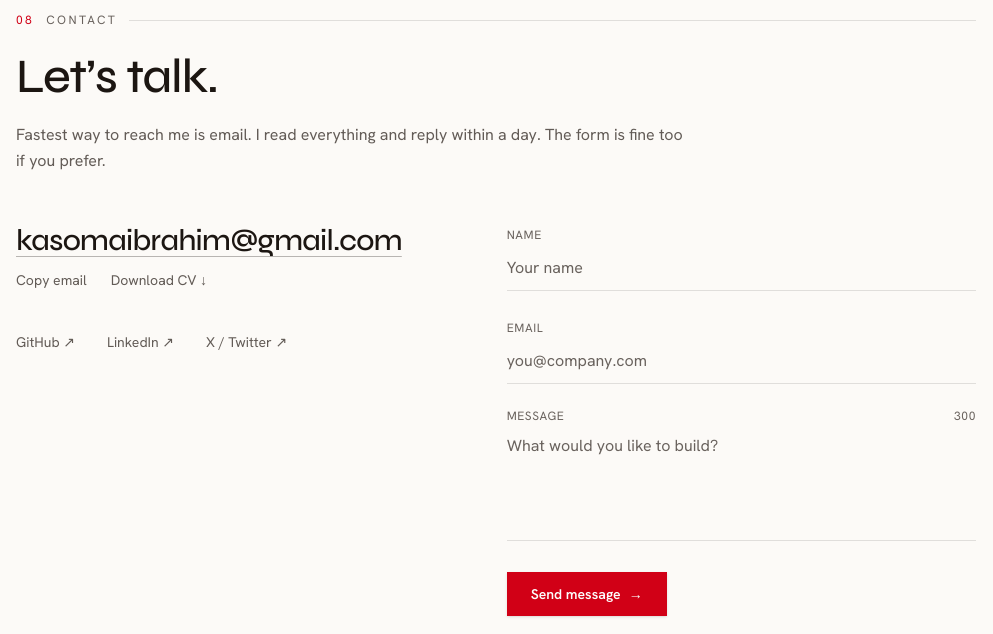
Test: Contact form › shows a server error on failure
In the field with placeholder "Your name": (741, 269) [507,246,976,291], type "Jane Recruiter"
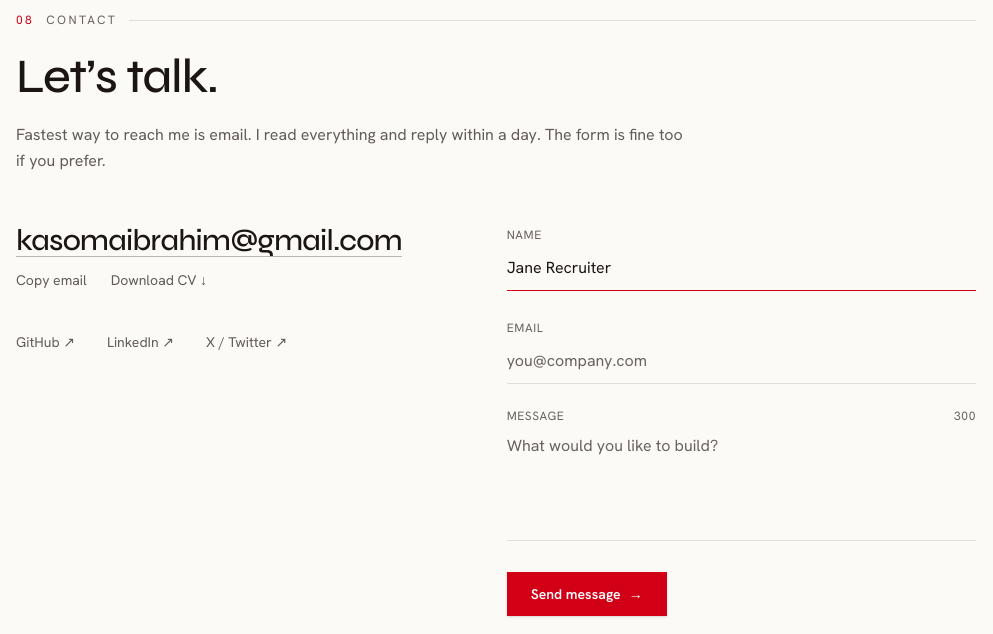
In the field with placeholder "you@company.com": (741, 362) [507,339,976,384], type "jane@example.com"
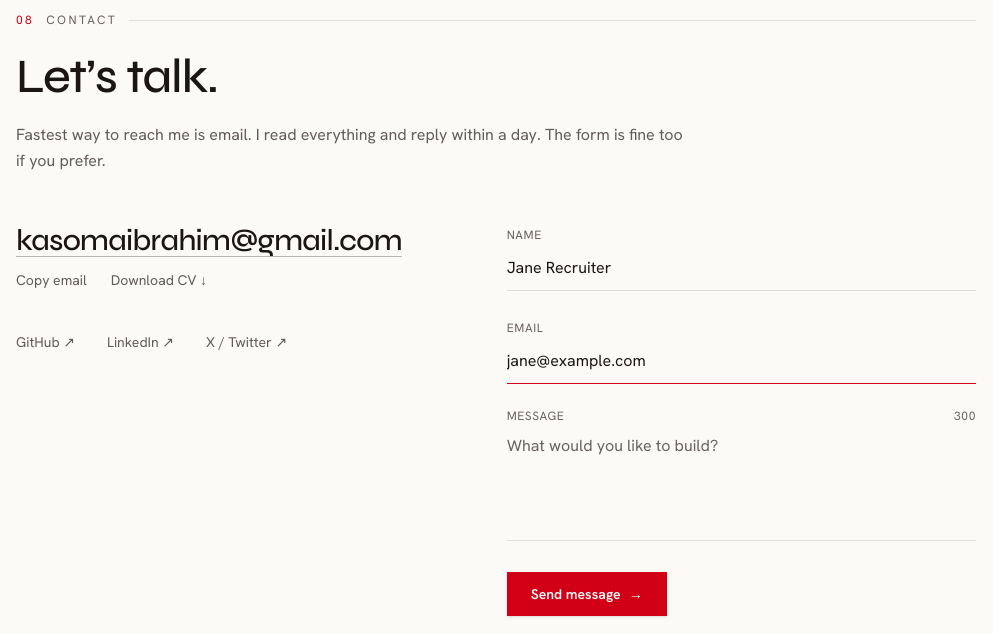
In the text box with placeholder "What would you like to build?": (741, 483) [507,424,976,541], type "A valid message."
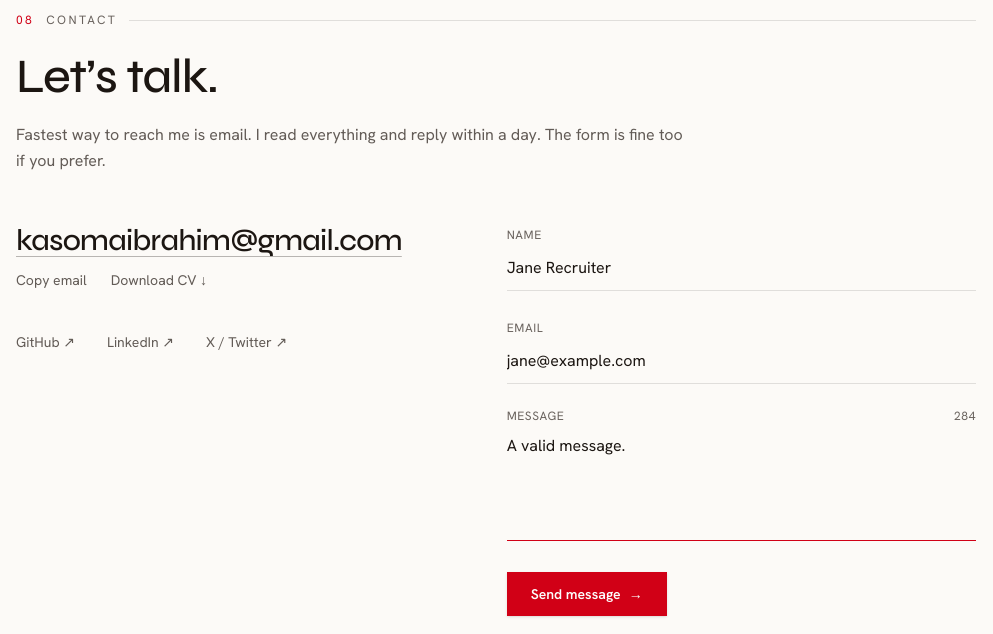
Click the button "Send message →": (587, 594) [507,572,667,616]
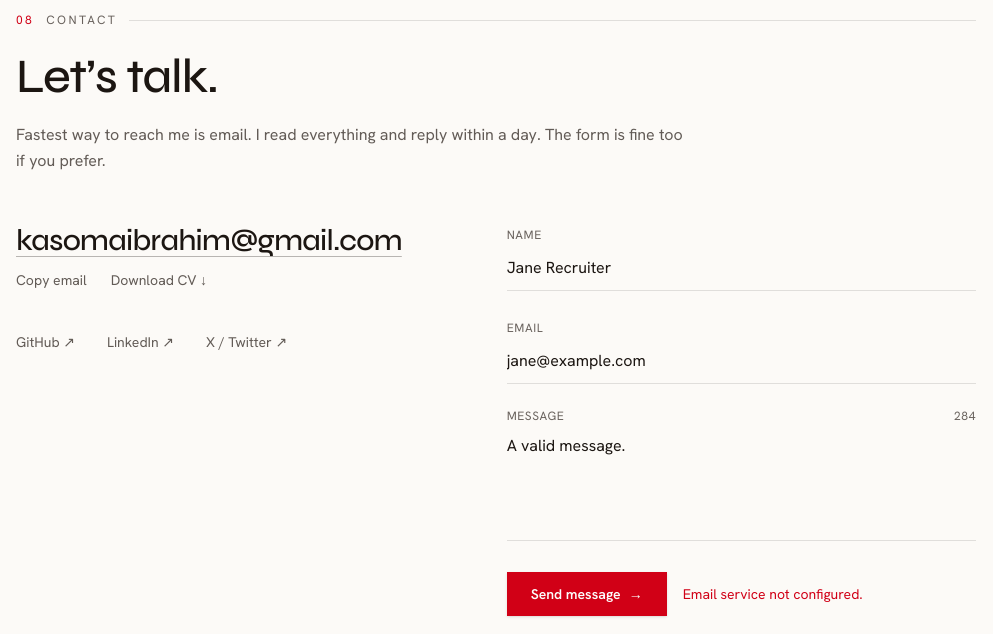
expect the text "Email service not configured." is shown: met, box [683,584,863,604]
